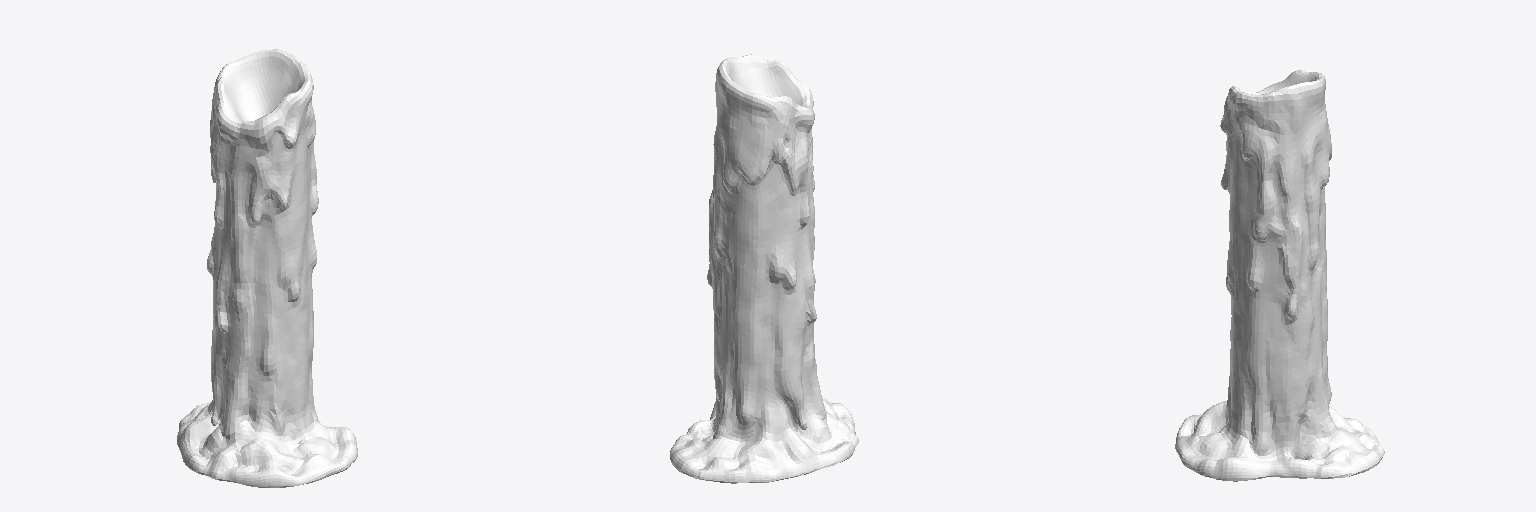
Rendered from candle_2.obj.
3 renders of one model, left to right at view 1: azimuth 30°, elevation 25°; view 2: azimuth 150°, elevation 25°; view 3: azimuth 270°, elevation 25°, orthographic.
Parts seen in each view (by area): view 1: candle_2.005; view 2: candle_2.005; view 3: candle_2.005.
Part boxes in pixels (x1,y1,x2,y2): candle_2.005: (177,49,357,487); candle_2.005: (670,54,858,483); candle_2.005: (1175,70,1384,481).
Size of the model in its own units: 0.0656 by 0.1598 by 0.0798.